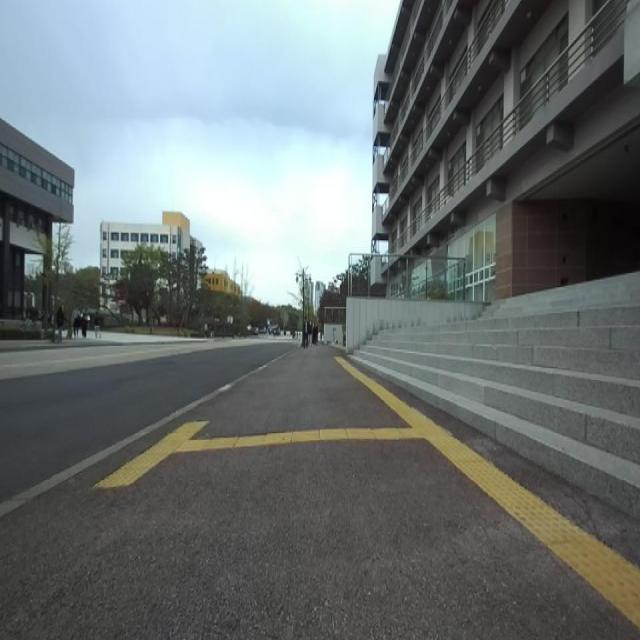sidewalk: (0, 348, 640, 639), (0, 365, 267, 517)
